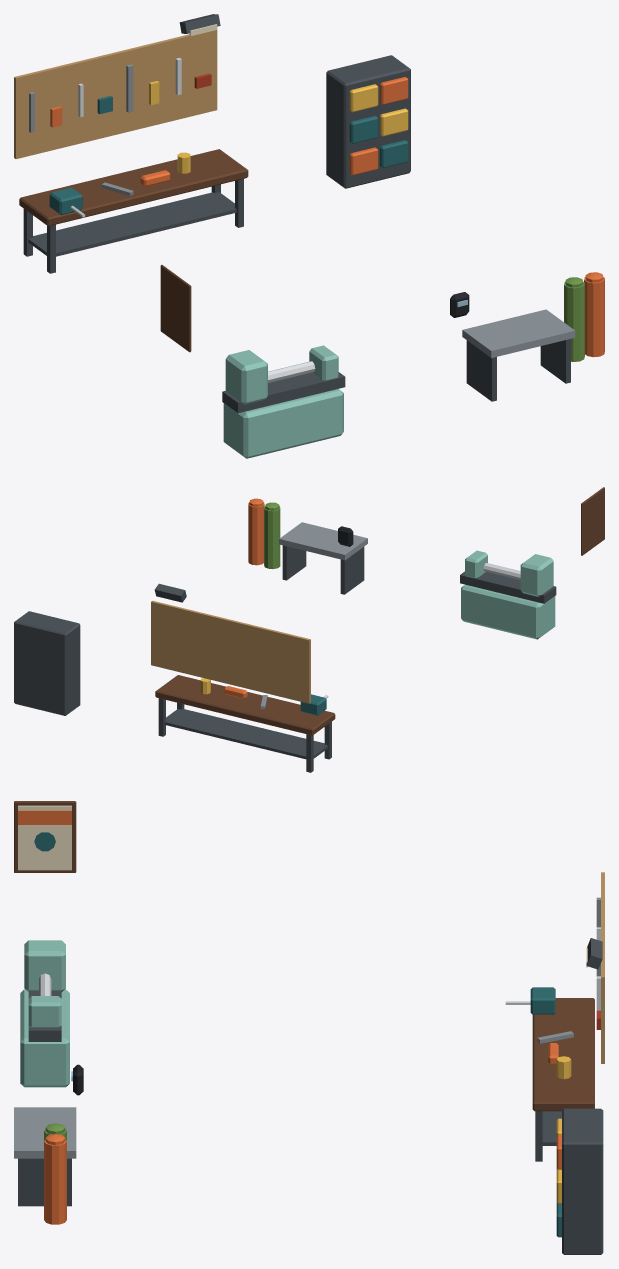
The model's file is Room_Workshop_L2.fbx.
3 views of the same model, one above another, from view 1: azimuth 30°, elevation 25°; view 2: azimuth 150°, elevation 25°; view 3: azimuth 270°, elevation 25° (orthographic). The views are drawn at different scales.
Visible parts, largest first — view 1: Decor, Bins1, Workbench1, Lathe1, WeldTable1, Bottle2, Bottle1; view 2: Decor, Bins1, Workbench1, Lathe1, WeldTable1, Bottle1, Bottle2; view 3: Decor, Bins1, Workbench1, Lathe1, WeldTable1, Bottle2.
Boxes of the visible parts, x1,y1,x2,y2 form: Decor: (14, 14, 603, 413); Bins1: (326, 55, 410, 188); Workbench1: (19, 149, 248, 226); Lathe1: (223, 389, 343, 458); WeldTable1: (462, 309, 575, 357); Bottle2: (584, 277, 604, 357); Bottle1: (564, 281, 584, 361); Decor: (151, 487, 604, 772); Bins1: (14, 611, 80, 715); Workbench1: (155, 675, 335, 735); Lathe1: (461, 584, 555, 639); WeldTable1: (279, 522, 367, 560); Bottle1: (264, 506, 280, 568); Bottle2: (248, 502, 264, 565); Decor: (14, 801, 604, 1237); Bins1: (562, 1108, 603, 1254); Workbench1: (532, 998, 594, 1111); Lathe1: (20, 989, 69, 1087); WeldTable1: (14, 1107, 76, 1158); Bottle2: (44, 1139, 66, 1224).
Size of the model in its own units: 28.5 by 10.98 by 28.48.
